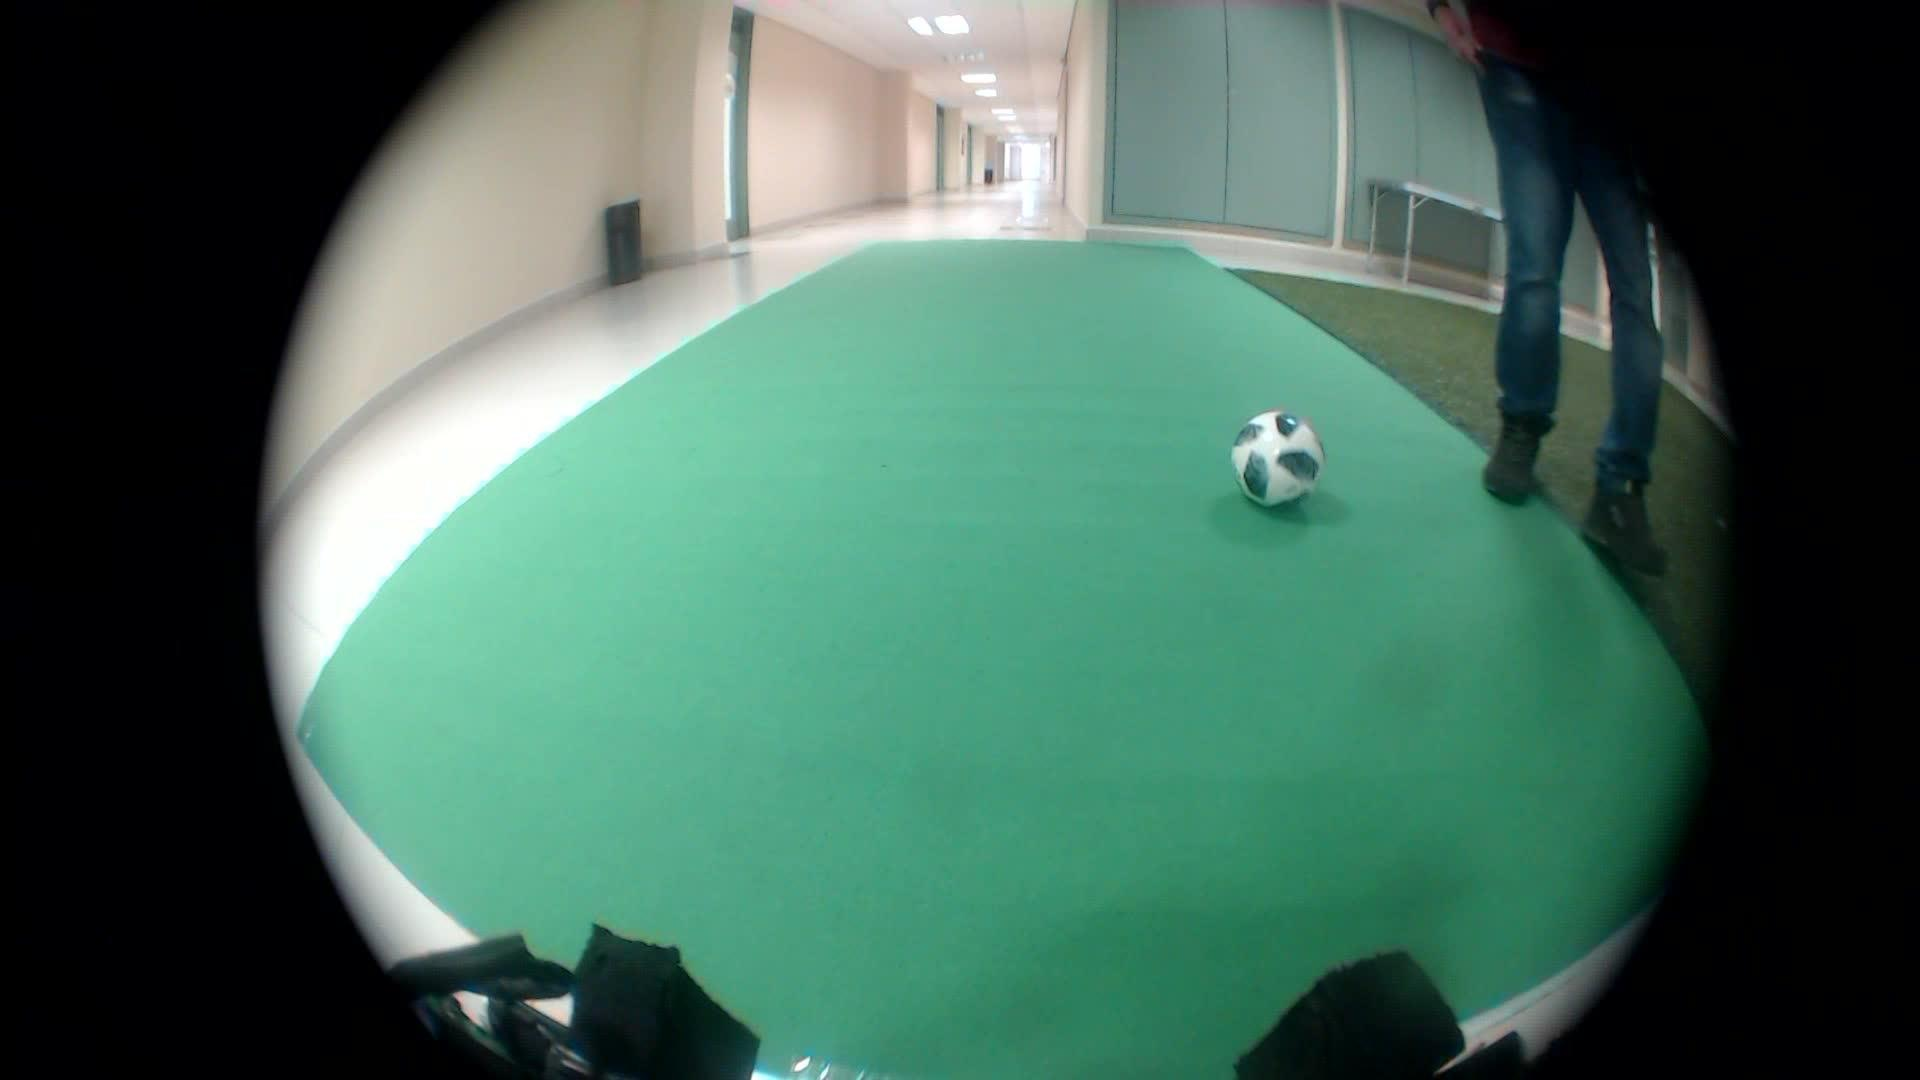ball: (1228, 396, 1335, 518)
